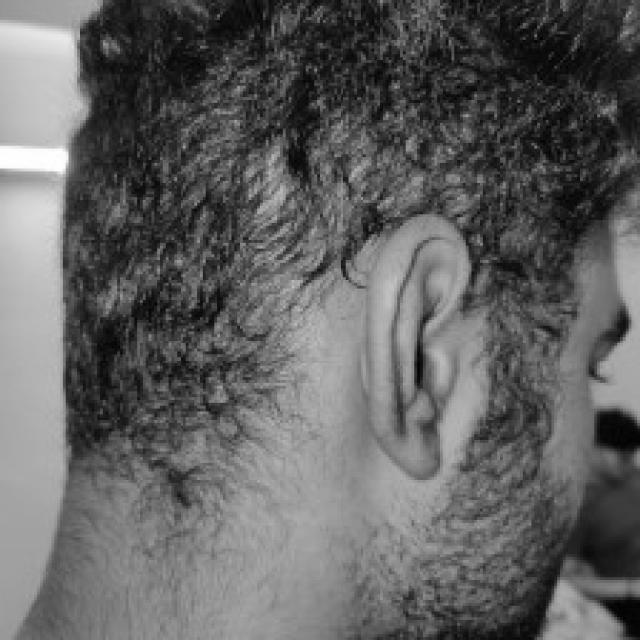ear: (366, 211, 466, 477)
